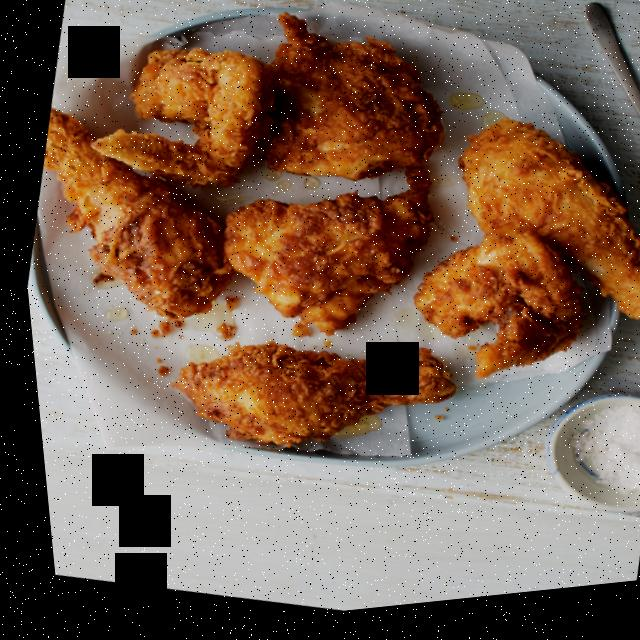Frango: (0, 0, 640, 552)
